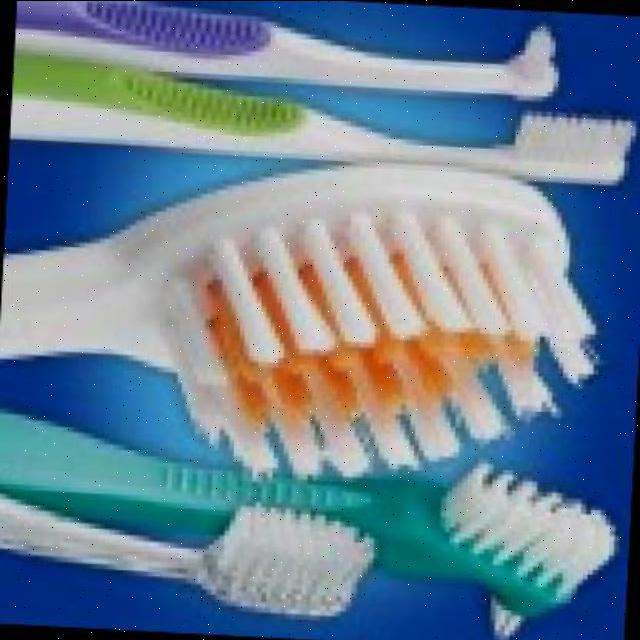toothbrush: (0, 148, 638, 482)
